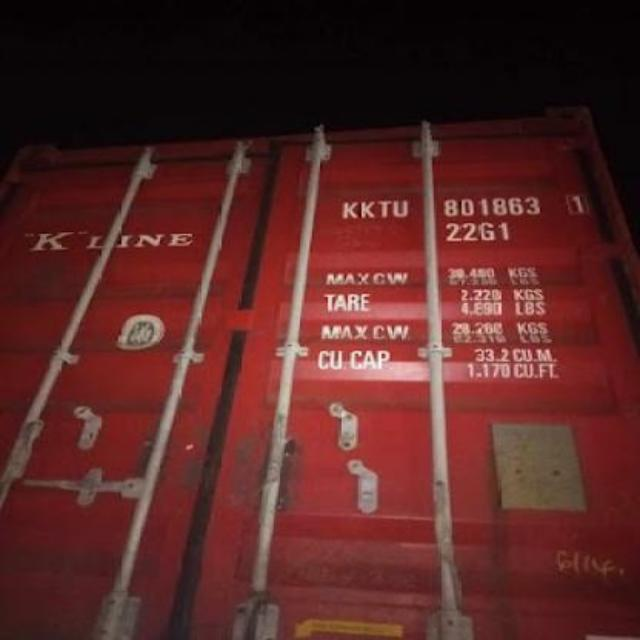0: (458, 190, 476, 220)
1: (562, 188, 594, 218), (476, 189, 489, 221)
3: (522, 188, 550, 226)
6: (508, 184, 524, 220)
8: (440, 189, 458, 221), (492, 185, 508, 221)
K: (358, 194, 378, 223), (340, 193, 356, 225)
T: (376, 193, 389, 223)
U: (392, 192, 410, 220)
